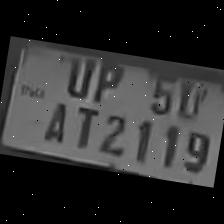0: (172, 72, 209, 122)
1: (126, 112, 159, 164), (151, 118, 182, 170)
2: (92, 108, 131, 158)
5: (143, 64, 179, 118)
9: (176, 124, 212, 174)
A: (36, 94, 72, 146)
P: (87, 53, 127, 107)
T: (66, 100, 100, 150)
U: (60, 48, 97, 98)
